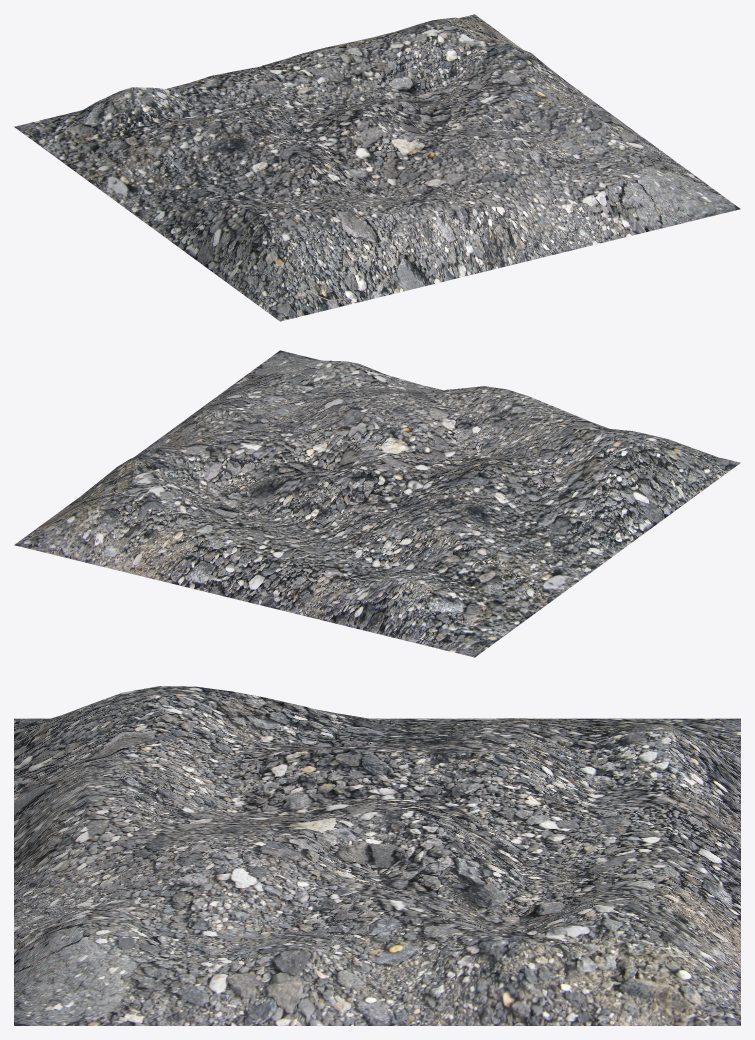
File: debri3.fbx
3 renders of one model, top to bottom at view 1: azimuth 30°, elevation 25°; view 2: azimuth 150°, elevation 25°; view 3: azimuth 270°, elevation 25°, orthographic. The views are drawn at different scales.
Parts seen in each view (by area): view 1: pPlane4; view 2: pPlane4; view 3: pPlane4.
Boxes of the visible parts, x1,y1,x2,y2 form: pPlane4: (14, 14, 740, 321); pPlane4: (14, 350, 740, 657); pPlane4: (14, 686, 740, 1025).
Bounding box in the file's own units: 20 × 2.11 × 20.
